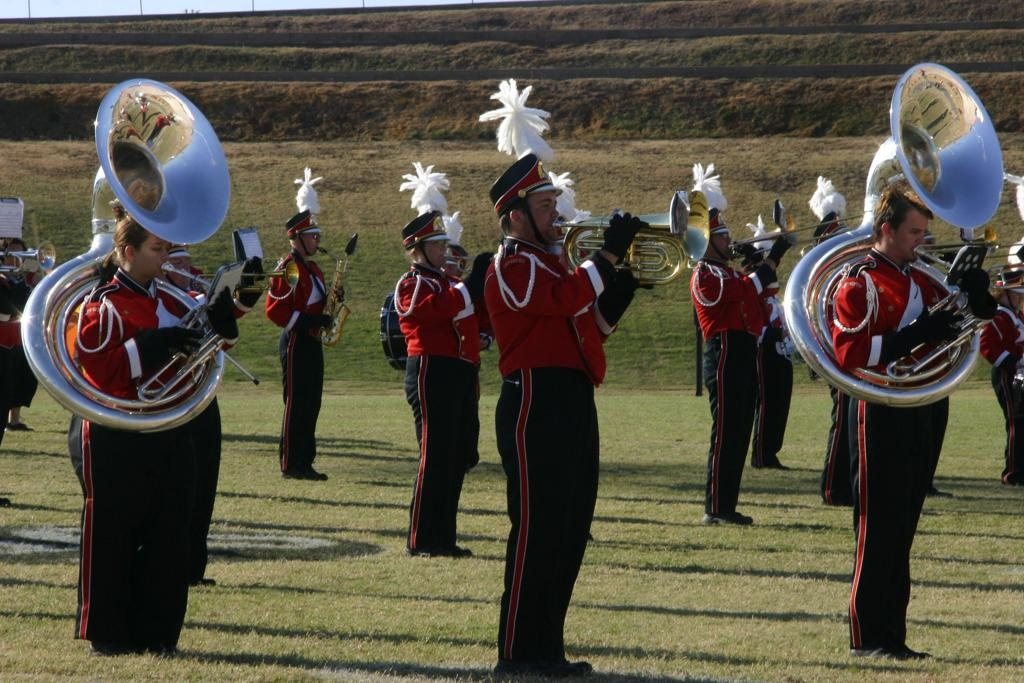human_face: (888, 208, 928, 262), (520, 192, 558, 240), (133, 234, 167, 276), (418, 236, 446, 264), (166, 257, 190, 287), (708, 231, 732, 259), (5, 246, 25, 272), (298, 227, 318, 253)
